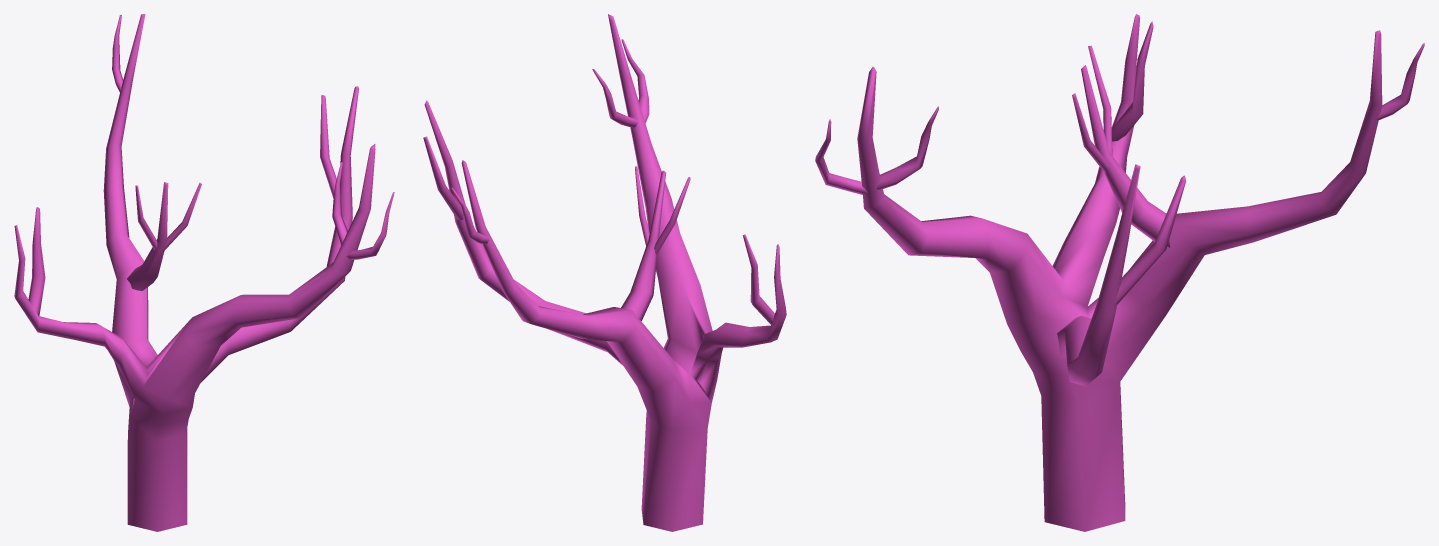
Rendered from Coral_C.obj.
The picture shows the model from 3 angles, left to right: view 1: azimuth 30°, elevation 25°; view 2: azimuth 150°, elevation 25°; view 3: azimuth 270°, elevation 25°; orthographic projection. The views are drawn at different scales.
Parts seen in each view (by area): view 1: Cylinder001; view 2: Cylinder001; view 3: Cylinder001.
Boxes of the visible parts, x1,y1,x2,y2 form: Cylinder001: (14, 14, 394, 531); Cylinder001: (423, 14, 786, 531); Cylinder001: (815, 14, 1424, 531).
Bounding box in the file's own units: 98.21 × 109 × 110.
